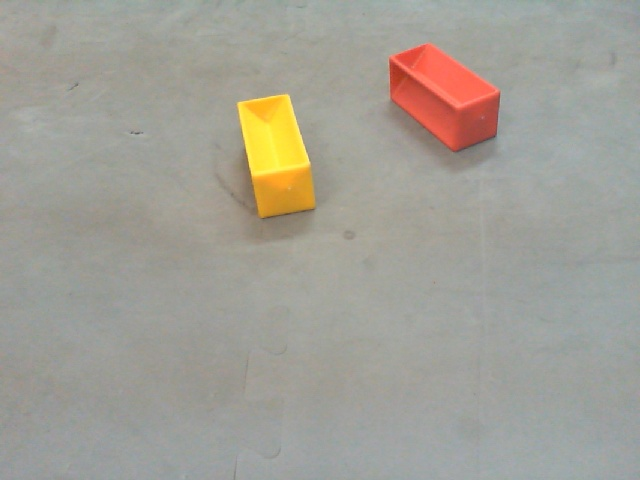RedSample: (385, 42, 505, 156)
YellowSample: (235, 90, 320, 220)
